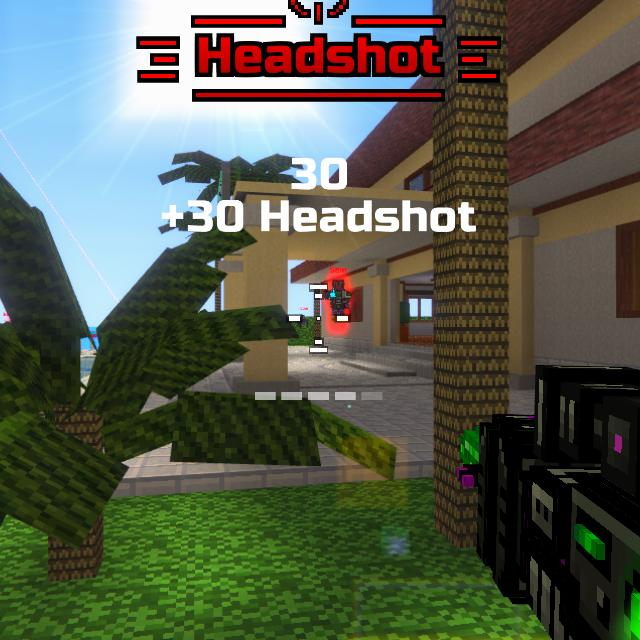Enemy: (324, 279, 353, 323)
